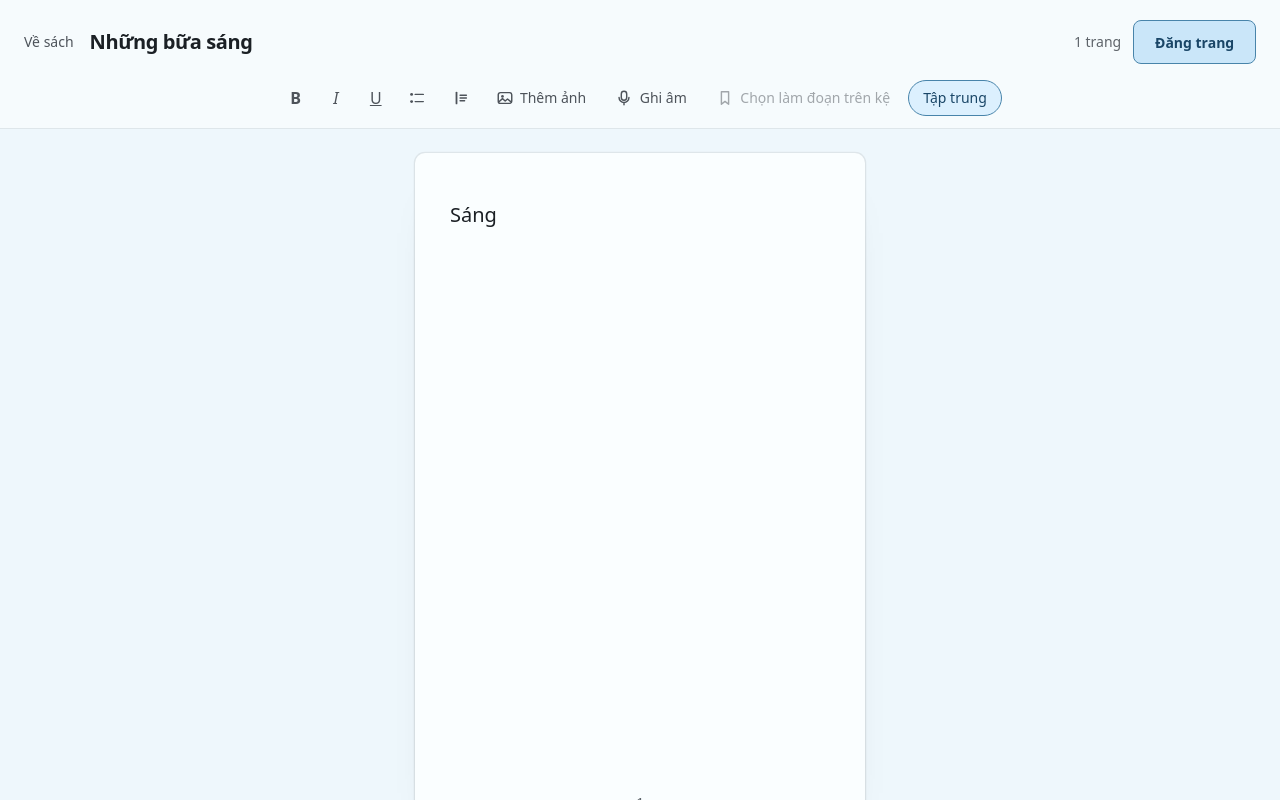
Test case: ghi am › recorder ban su kien error: doan da ghi van den duoc nguoi dung, micro tat ngay
What coordinates should you click on to do the following:
click the button "Ghi âm"
I would click on:
 (652, 98)
Its box is [604,80,700,116].
Wait 7000 ms
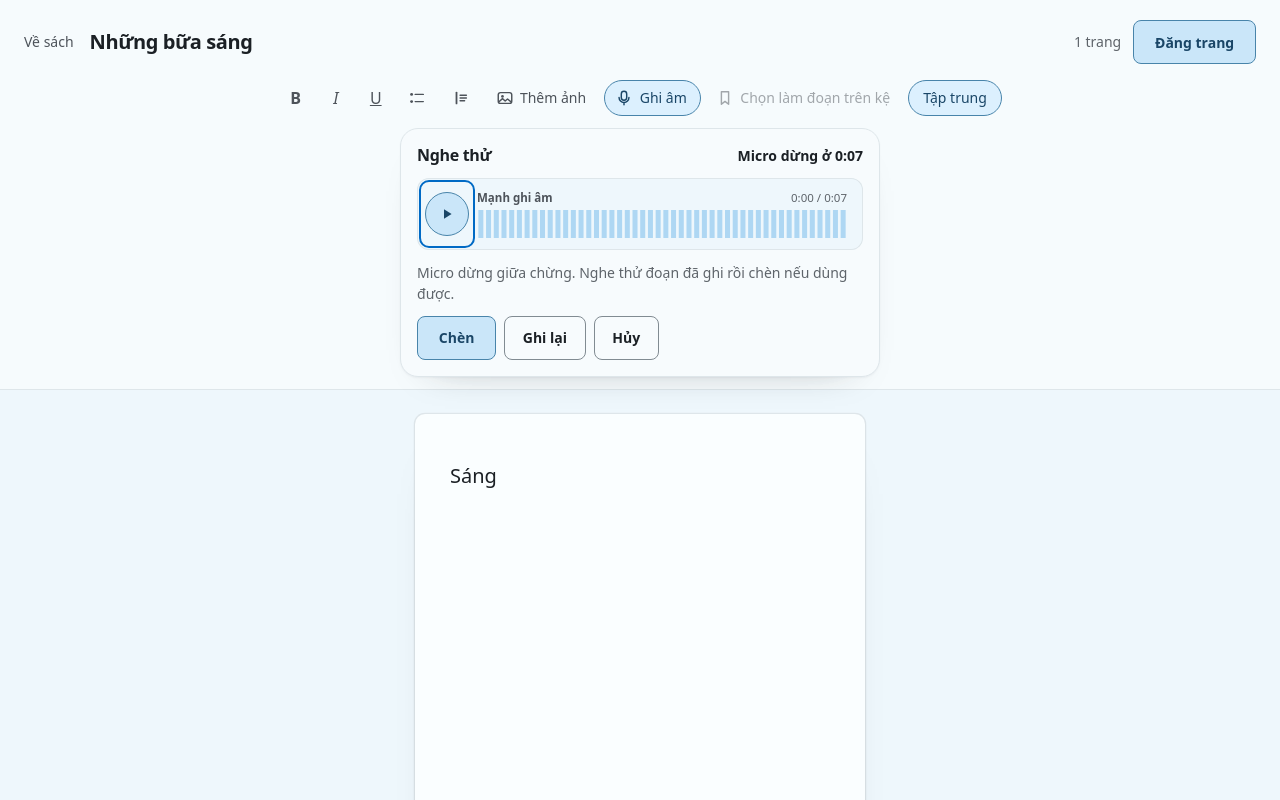
Check: the text with class "ghi-am-hop__trang-thai" reads "Micro dừng ở 0:07", box [738,146,863,165]
